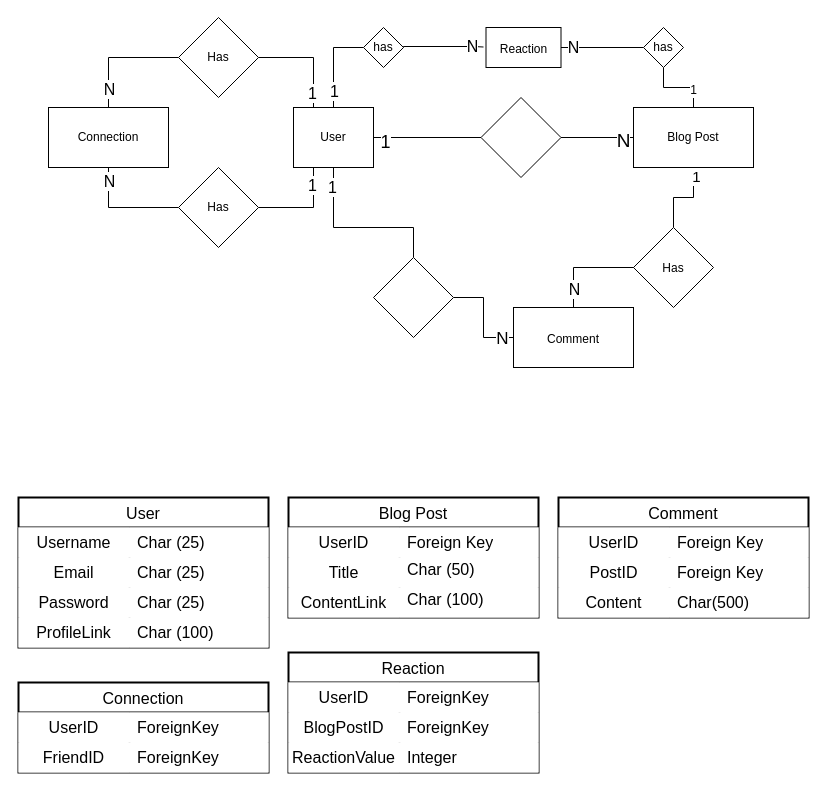
Some shapes in this 826 by 791 pixel diagram are drawn without their labels. The shapes that lost their labels are listed below. From the top down, each one's centre as x and y in pixels, then its label:
At point 520,137: "Writes".
At point 413,297: "Makes".
